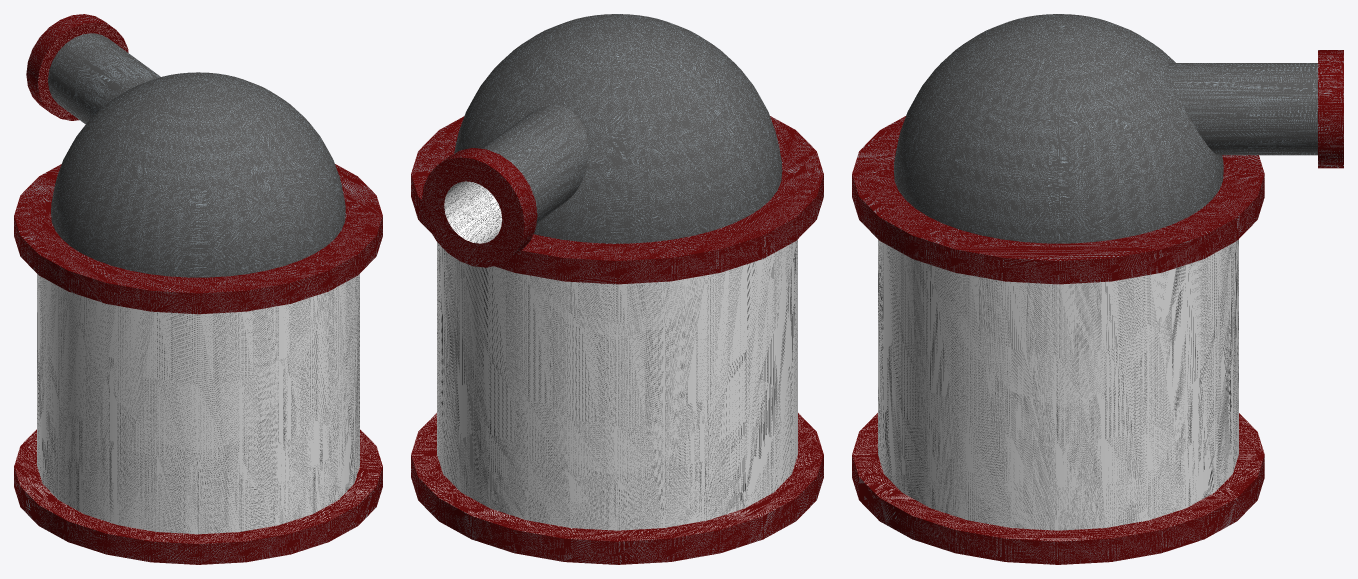
File: TrashCanonOff.dae
The picture shows the model from 3 angles, left to right: view 1: azimuth 30°, elevation 25°; view 2: azimuth 150°, elevation 25°; view 3: azimuth 270°, elevation 25°; orthographic projection. The views are drawn at different scales.
Parts seen in each view (by area): view 1: SketchUp (×5); view 2: SketchUp (×6); view 3: SketchUp (×5).
Part boxes in pixels (x1,y1,x2,y2): SketchUp (×5): (14,14,382,564); SketchUp (×6): (411,14,823,564); SketchUp (×5): (852,14,1343,564).
Size of the model in its own units: 6.3 by 7.51 by 7.55.
